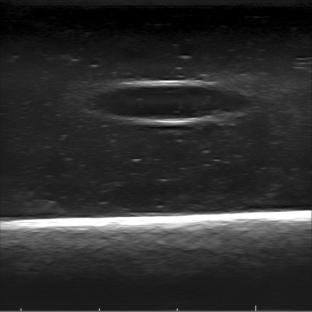vessel: (98, 79, 255, 126)
